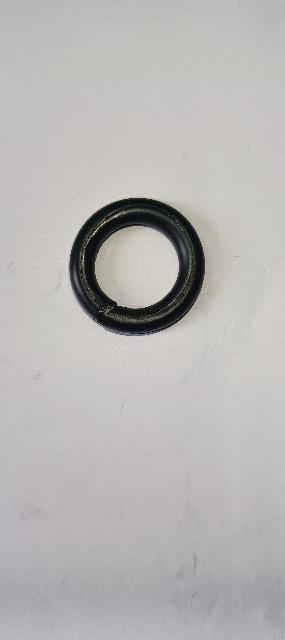crack: (84, 300, 127, 329)
scratch: (78, 203, 196, 325)
